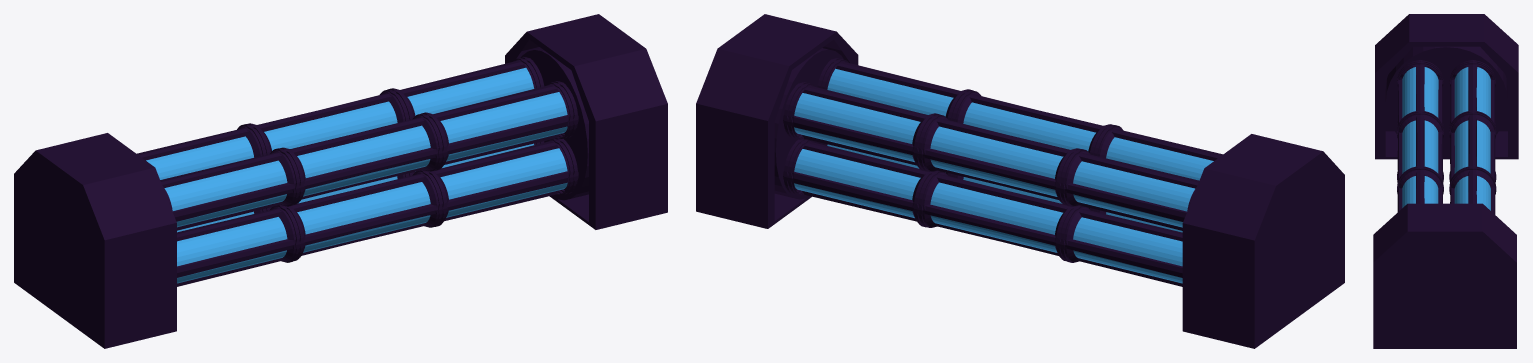
File: FuelPipesFix.fbx
3 views of the same model, side by side, from view 1: azimuth 30°, elevation 25°; view 2: azimuth 150°, elevation 25°; view 3: azimuth 270°, elevation 25° (orthographic). The views are drawn at different scales.
Parts seen in each view (by area): view 1: SideBigThings, OutsideFrontUp, InsideFrontUp, OutsideFrontDown, InsideFrontDown, InsideBackUp, OutsideBackUp, InsideBackDown; view 2: SideBigThings, OutsideBackUp, InsideBackUp, OutsideBackDown, InsideBackDown, InsideFrontUp, OutsideFrontUp, InsideFrontDown; view 3: SideBigThings, OutsideFrontUp, OutsideBackUp, InsideBackUp, InsideFrontUp.
Boxes of the visible parts, bbox=[...] form: SideBigThings: bbox=[14, 14, 667, 348]; OutsideFrontUp: bbox=[160, 81, 578, 230]; InsideFrontUp: bbox=[164, 92, 567, 227]; OutsideFrontDown: bbox=[177, 138, 578, 286]; InsideFrontDown: bbox=[177, 148, 567, 283]; InsideBackUp: bbox=[146, 67, 534, 179]; OutsideBackUp: bbox=[137, 57, 544, 160]; InsideBackDown: bbox=[177, 143, 533, 232]; SideBigThings: bbox=[696, 14, 1344, 348]; OutsideBackUp: bbox=[783, 82, 1198, 230]; InsideBackUp: bbox=[794, 93, 1194, 227]; OutsideBackDown: bbox=[783, 139, 1182, 286]; InsideBackDown: bbox=[794, 149, 1182, 283]; InsideFrontUp: bbox=[827, 68, 1213, 180]; OutsideFrontUp: bbox=[817, 58, 1222, 160]; InsideFrontDown: bbox=[827, 144, 1182, 232]; SideBigThings: bbox=[1373, 14, 1518, 348]; OutsideFrontUp: bbox=[1397, 60, 1443, 211]; OutsideBackUp: bbox=[1449, 60, 1496, 214]; InsideBackUp: bbox=[1454, 67, 1490, 210]; InsideFrontUp: bbox=[1402, 67, 1438, 207].
Size of the model in its own units: 2779 by 699 by 785.
